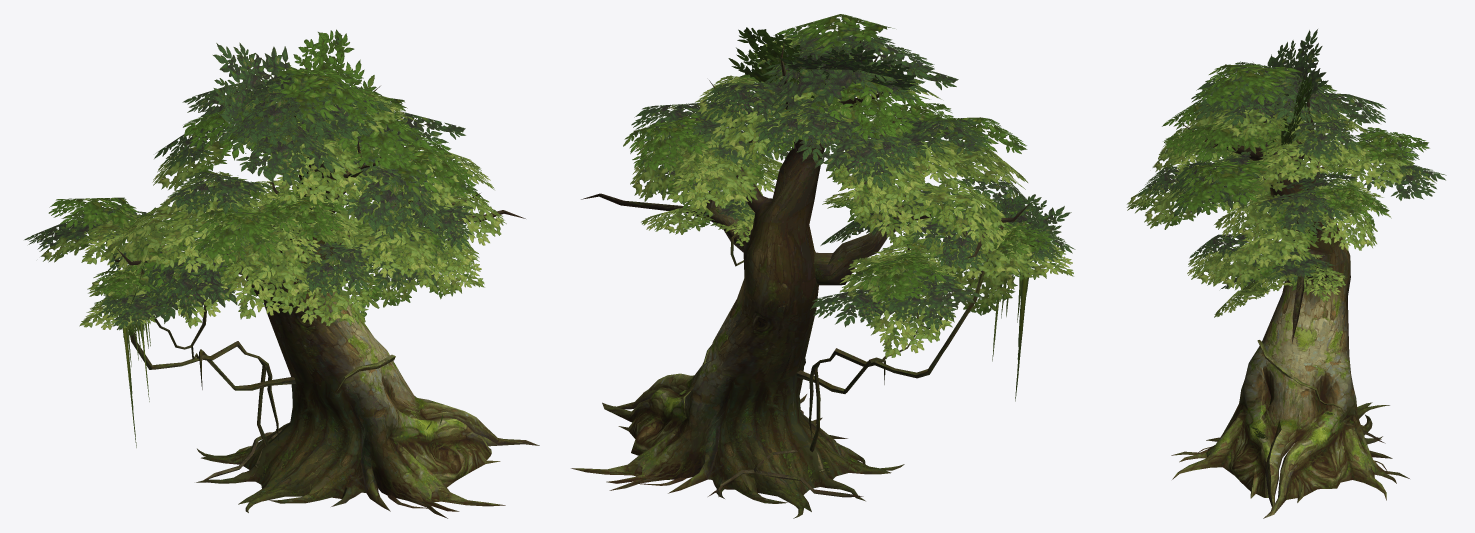
Rendered from 3004_Item_shu_1.FBX.
3 views of the same model, side by side, from view 1: azimuth 30°, elevation 25°; view 2: azimuth 150°, elevation 25°; view 3: azimuth 270°, elevation 25° (orthographic). The views are drawn at different scales.
Parts seen in each view (by area): view 1: 3004_Item_shu_1; view 2: 3004_Item_shu_1; view 3: 3004_Item_shu_1.
Boxes of the visible parts, x1,y1,x2,y2 form: 3004_Item_shu_1: (24,29,539,518); 3004_Item_shu_1: (571,14,1075,518); 3004_Item_shu_1: (1127,29,1446,518).
Bounding box in the file's own units: 942 × 876 × 716.
